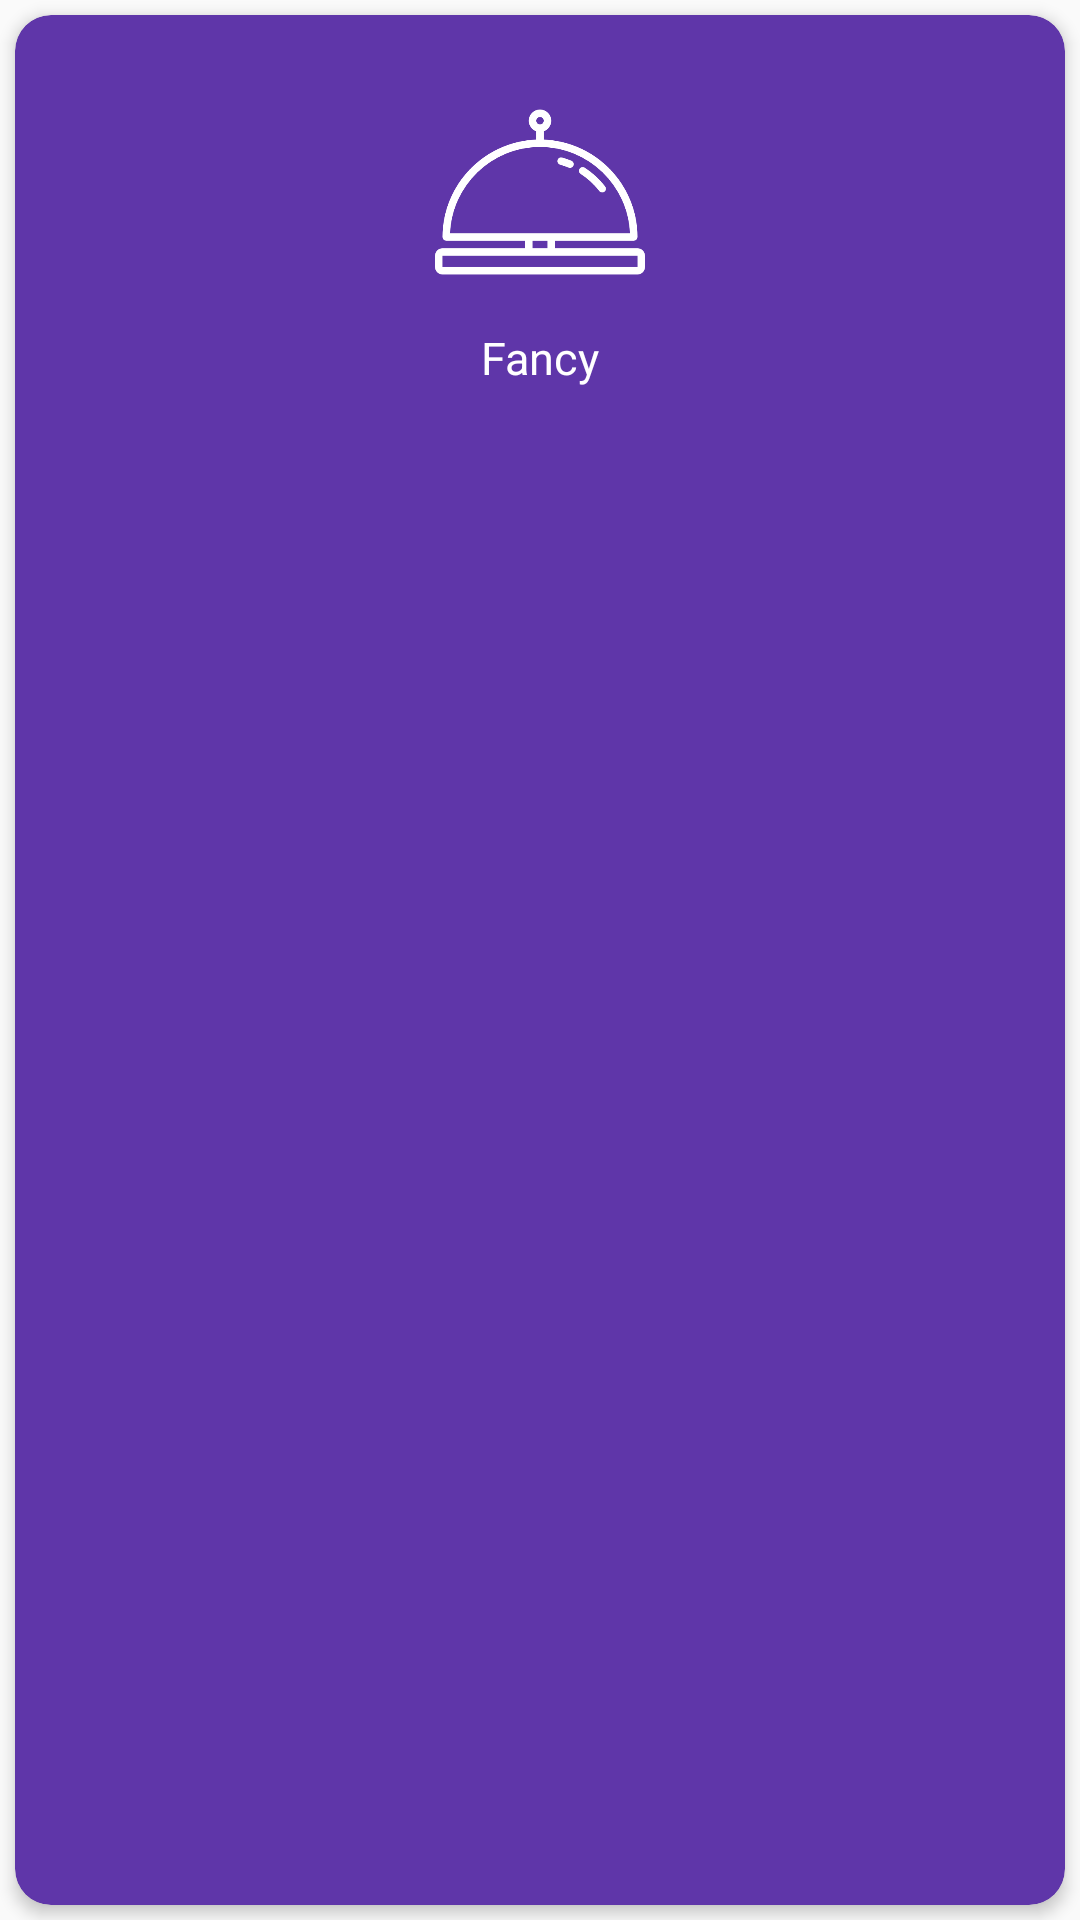

Screen size 1080px x 1920px. Icon name, then its center in pixels as [x,y]:
bellring: [540,192]
